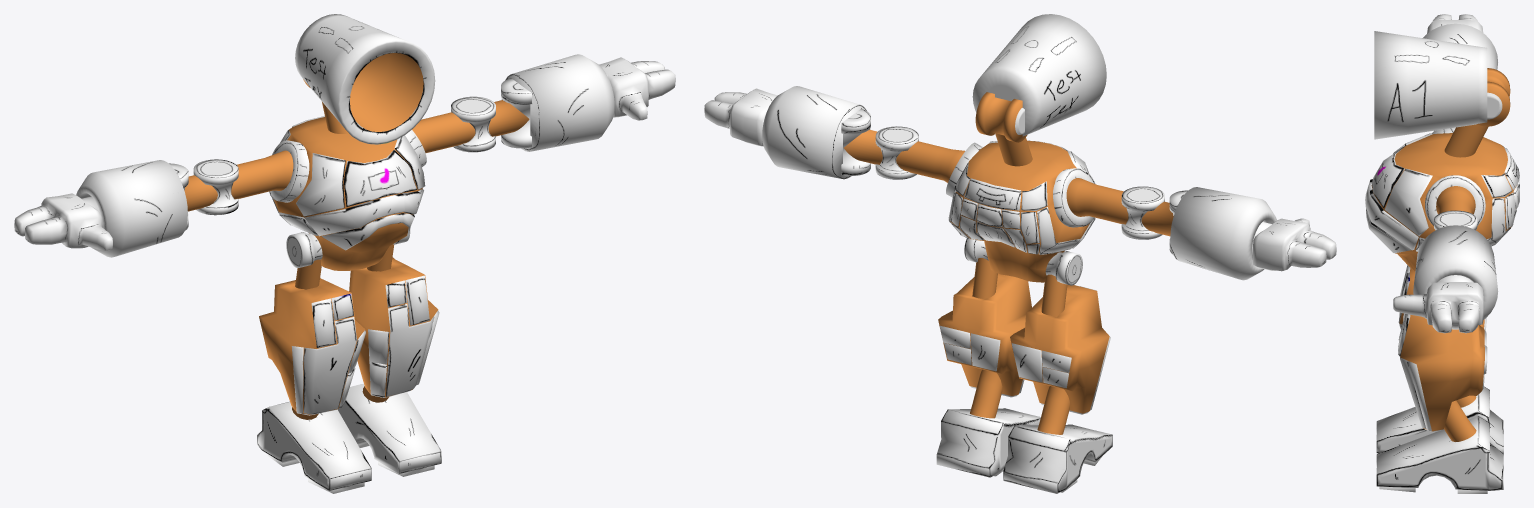
The model's file is TextureTestRobot.fbx.
3 renders of one model, left to right at view 1: azimuth 30°, elevation 25°; view 2: azimuth 150°, elevation 25°; view 3: azimuth 270°, elevation 25°, orthographic. The views are drawn at different scales.
Parts seen in each view (by area): view 1: Robot_Secondary; view 2: Robot_Secondary; view 3: Robot_Secondary.
Boxes of the visible parts, <box> form: Robot_Secondary: <box>14,14,675,493</box>; Robot_Secondary: <box>704,14,1336,493</box>; Robot_Secondary: <box>1365,14,1519,493</box>.
Bounding box in the file's own units: 356 × 233 × 76.26.
